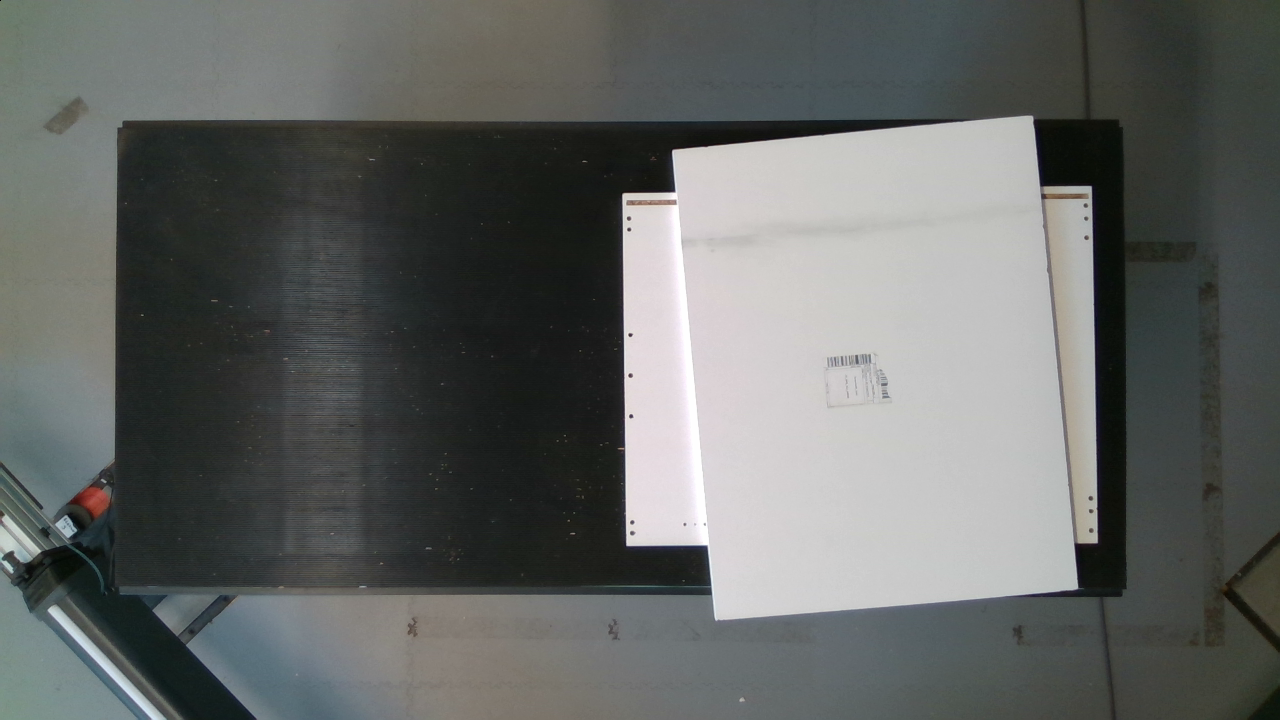barcode: (812, 343, 907, 417)
part2: (656, 116, 1100, 623)
